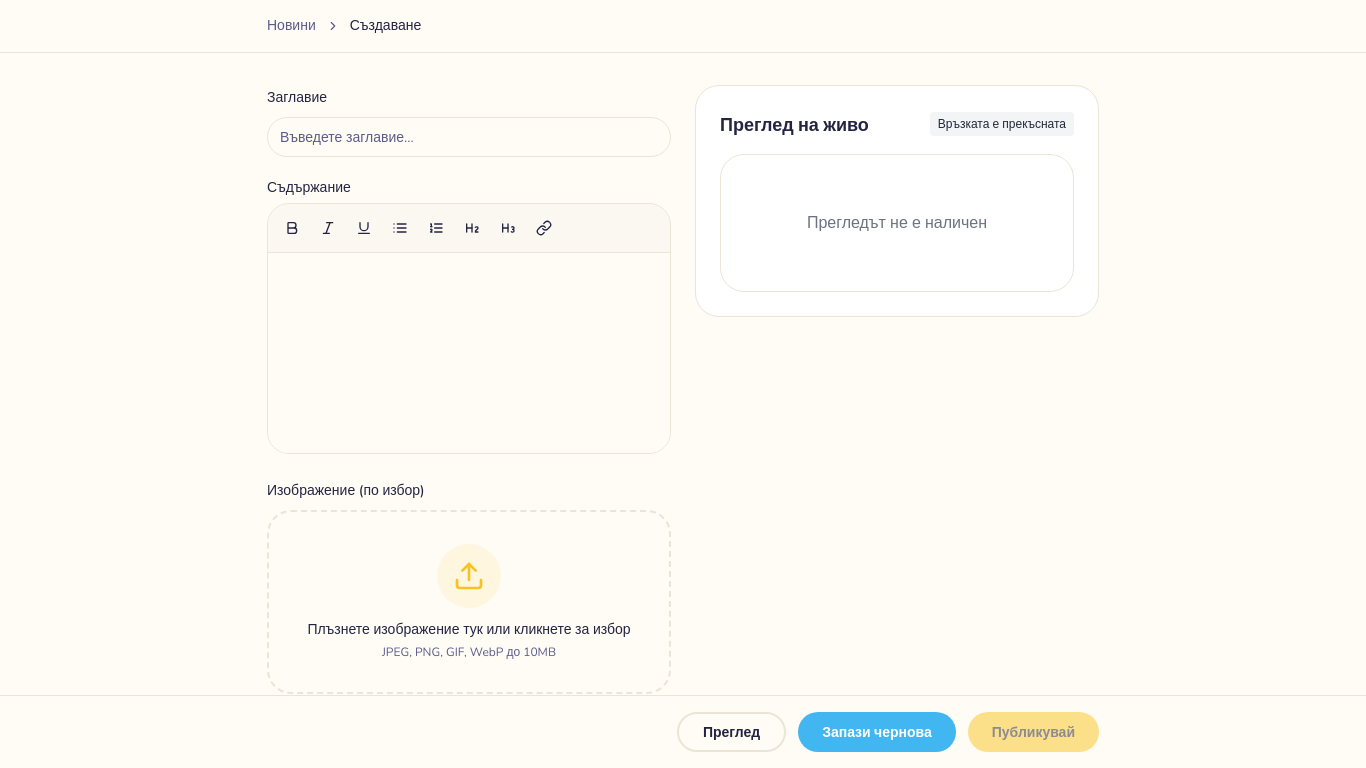
it: NewsCreate › shows validation error when title is empty
The width and height of the screenshot is (1366, 768).
Type and then clear to trigger validation
Type "Test" into the field labelled "Заглавие".
click(469, 137); type("Test")  # box [267,117,671,157]
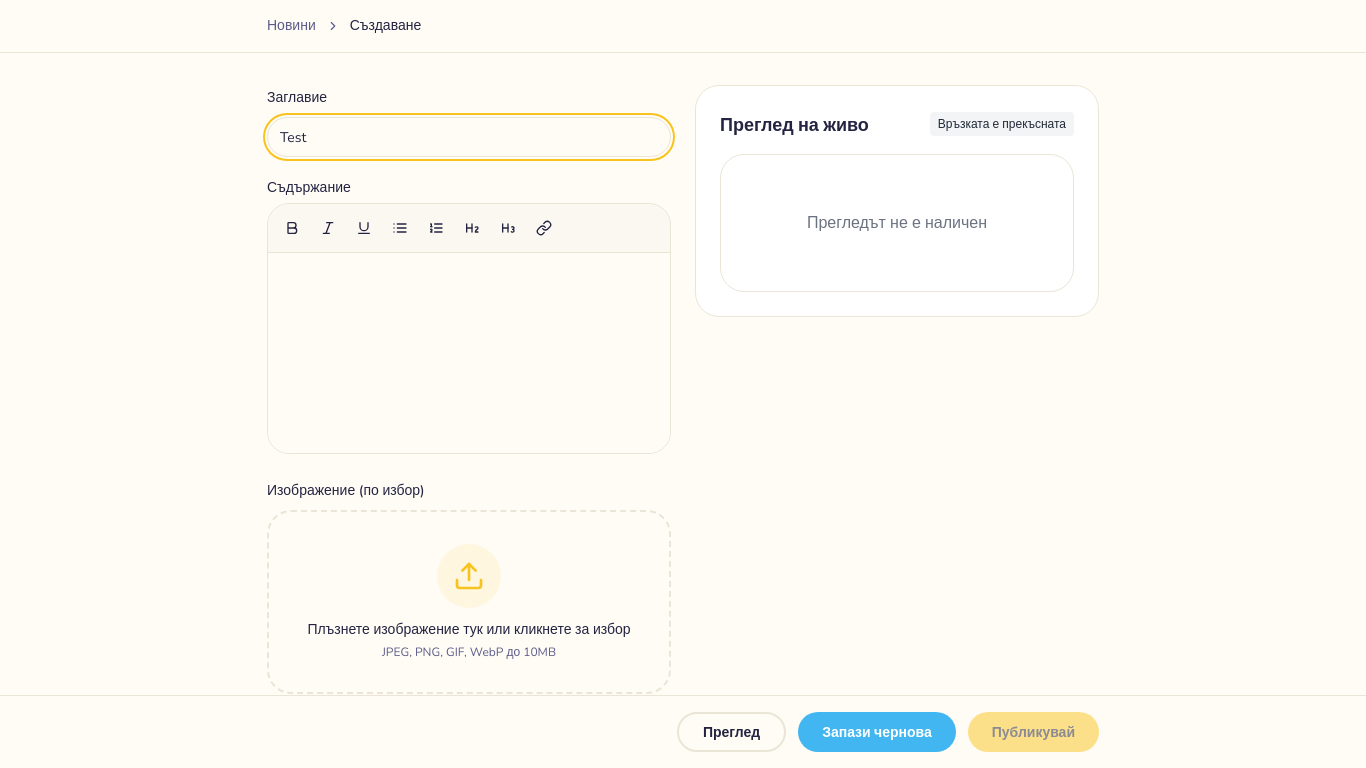
Clear the field labelled "Заглавие" at (469, 137), box [267,117,671,157]
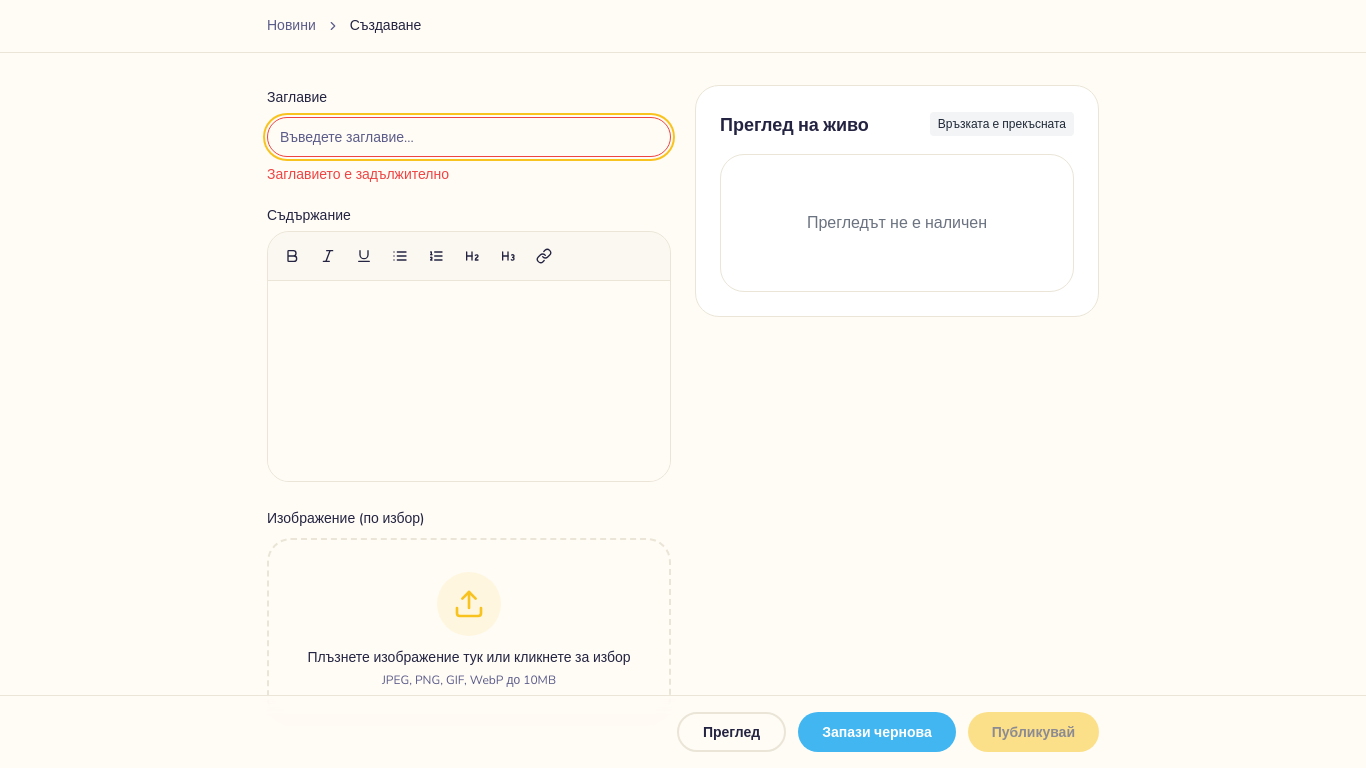
expect the text "Заглавието е задължително" is shown: met, box [267,165,449,184]
